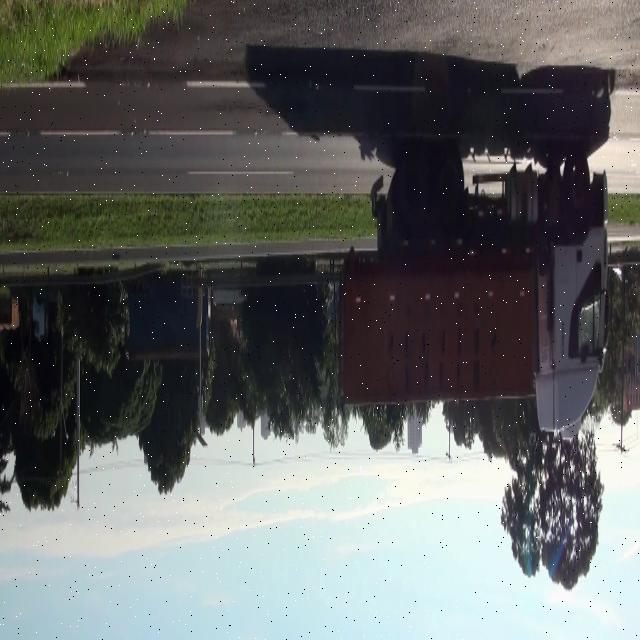-axle: (428, 150, 462, 230), (564, 146, 595, 221), (397, 149, 423, 235)
